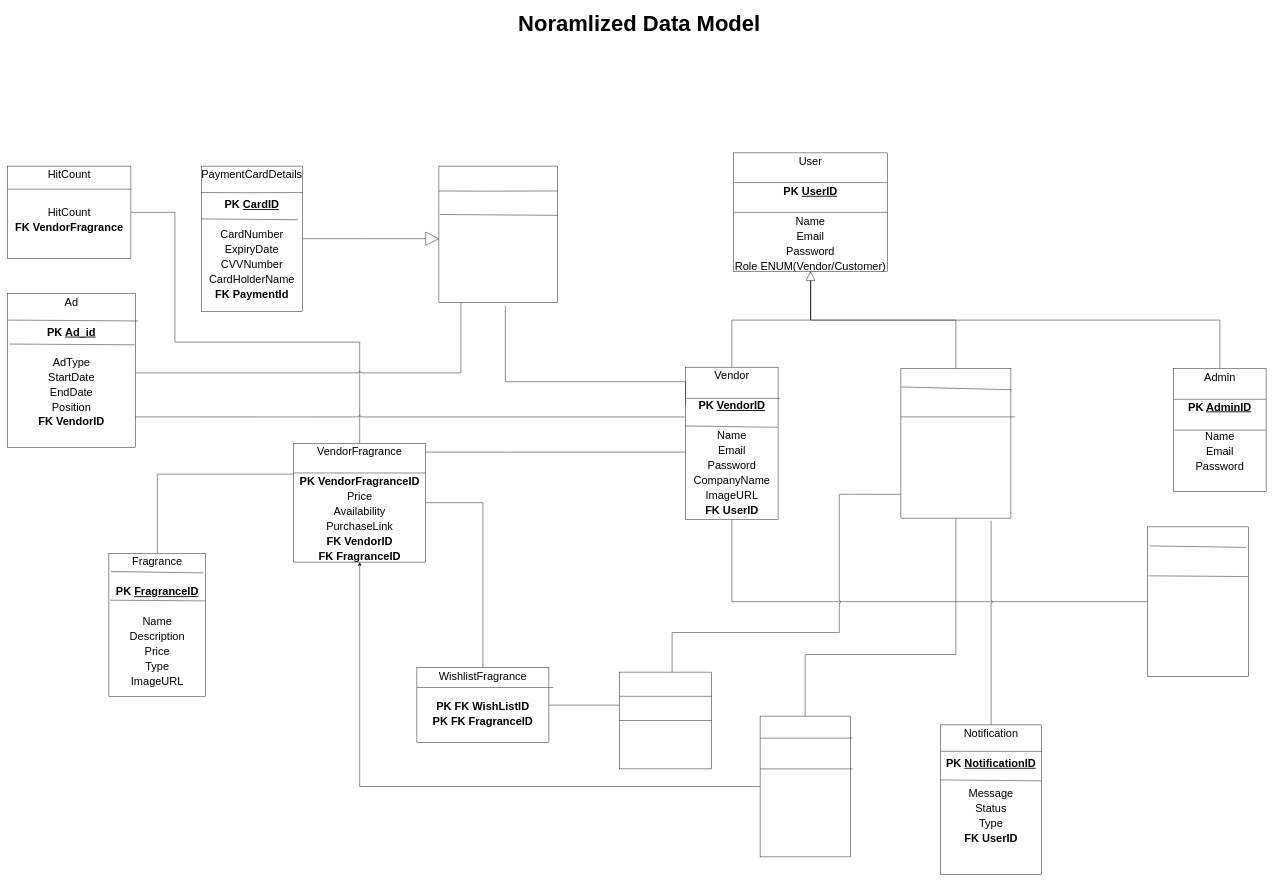
Some shapes in this 1274 by 882 pixel diagram are drawn without their labels. The shapes that lost their labels are listed below. From the top down, each one's centre as x and y in pixels, then its label:
At (x=498, y=234): "Payment PK PaymentID TotalAmount PaymentMethod FK VendorID FK AdID".
At (x=955, y=443): "Customer PK CustomerID FragranceType AgeCategory ImageUrl FK UserID".
At (x=1197, y=601): "PromoCode PK PromoCodeID Code Discount Status FK VendorID".
At (x=665, y=720): "Wishlist PK WishlistID AddedDate FK UserID".
At (x=805, y=786): "Review PK ReviewID Rating Comment ImageUrl FK UserID FK FragranceID".
